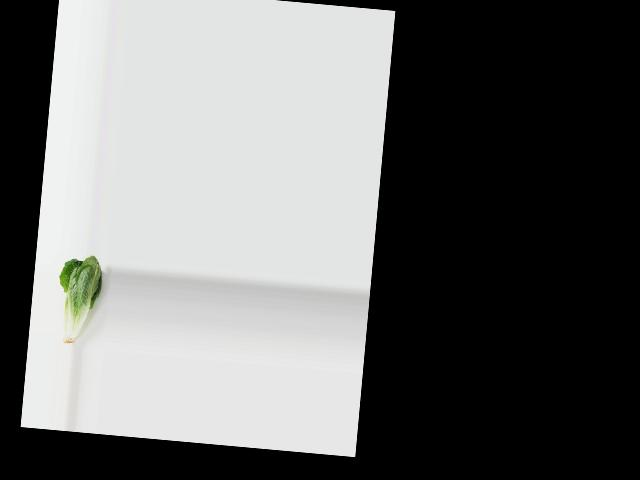lettuce: (52, 252, 106, 350)
